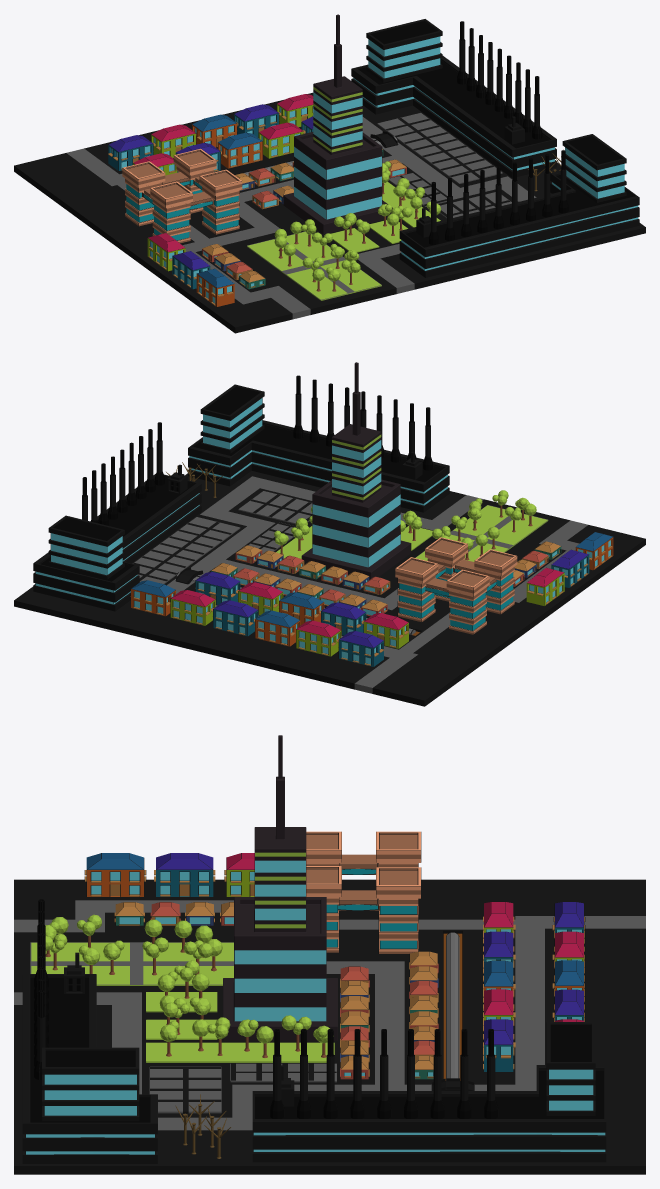
The model's file is Map.fbx.
The picture shows the model from 3 angles, top to bottom: view 1: azimuth 30°, elevation 25°; view 2: azimuth 150°, elevation 25°; view 3: azimuth 270°, elevation 25°; orthographic projection. The views are drawn at different scales.
Visible parts, largest first — view 1: Plane, Cube.042, Cube.043, Cube.038, Cube, Cube.034, Cube.039, Cube.018, Cube.025, Cube.033, Cube.019, Cube.024 (+10 smaller); view 2: Plane, Cube.043, Cube.042, Cube.038, Cube, Cube.034, Cube.039, Cube.035, Cube.025, Cube.021, Cube.024, Cube.022 (+12 smaller); view 3: Plane, Cube.043, Cube.042, Cube.038, Cube, Cube.039, Cube.047, Cube.035, Cube.033, Cube.032, Cylinder.022, Cube.036 (+16 smaller).
Part boxes in pixels (left/top/right/bottom): Plane: left=14, top=92, right=645, bottom=333; Cube.042: left=399, top=134, right=639, bottom=277; Cube.043: left=351, top=19, right=556, bottom=178; Cube.038: left=283, top=14, right=392, bottom=234; Cube: left=122, top=148, right=242, bottom=243; Cube.034: left=377, top=113, right=502, bottom=183; Cube.039: left=247, top=231, right=381, bottom=300; Cube.018: left=217, top=132, right=263, bottom=168; Cube.025: left=108, top=135, right=153, bottom=170; Cube.033: left=196, top=268, right=234, bottom=306; Cube.019: left=258, top=122, right=303, bottom=158; Cube.024: left=151, top=124, right=196, bottom=157; Plane: left=14, top=471, right=645, bottom=706; Cube.043: left=33, top=422, right=201, bottom=611; Cube.042: left=188, top=375, right=449, bottom=512; Cube.038: left=301, top=362, right=411, bottom=579; Cube: left=395, top=537, right=517, bottom=634; Cube.034: left=133, top=517, right=240, bottom=583; Cube.039: left=415, top=505, right=548, bottom=561; Cube.035: left=238, top=491, right=312, bottom=523; Cube.025: left=338, top=631, right=383, bottom=666; Cube.021: left=170, top=590, right=215, bottom=625; Cube.024: left=295, top=620, right=341, bottom=656; Cube.022: left=212, top=600, right=258, bottom=636; Plane: left=14, top=879, right=645, bottom=1174; Cube.043: left=252, top=1022, right=606, bottom=1162; Cube.042: left=22, top=899, right=157, bottom=1163; Cube.038: left=223, top=735, right=337, bottom=1040; Cube: left=306, top=831, right=421, bottom=953; Cube.039: left=30, top=942, right=233, bottom=985; Cube.047: left=146, top=1042, right=334, bottom=1062; Cube.035: left=149, top=1066, right=221, bottom=1113; Cube.033: left=84, top=853, right=146, bottom=896; Cube.032: left=154, top=853, right=215, bottom=896; Cylinder.022: left=446, top=932, right=459, bottom=1080; Cube.036: left=230, top=1063, right=336, bottom=1082.
Bounding box in the file's own units: 6407 × 3027 × 5975.
